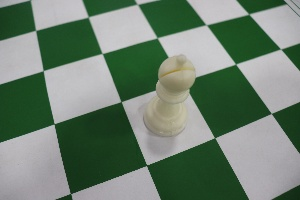white_bishop: (130, 30, 202, 145)
